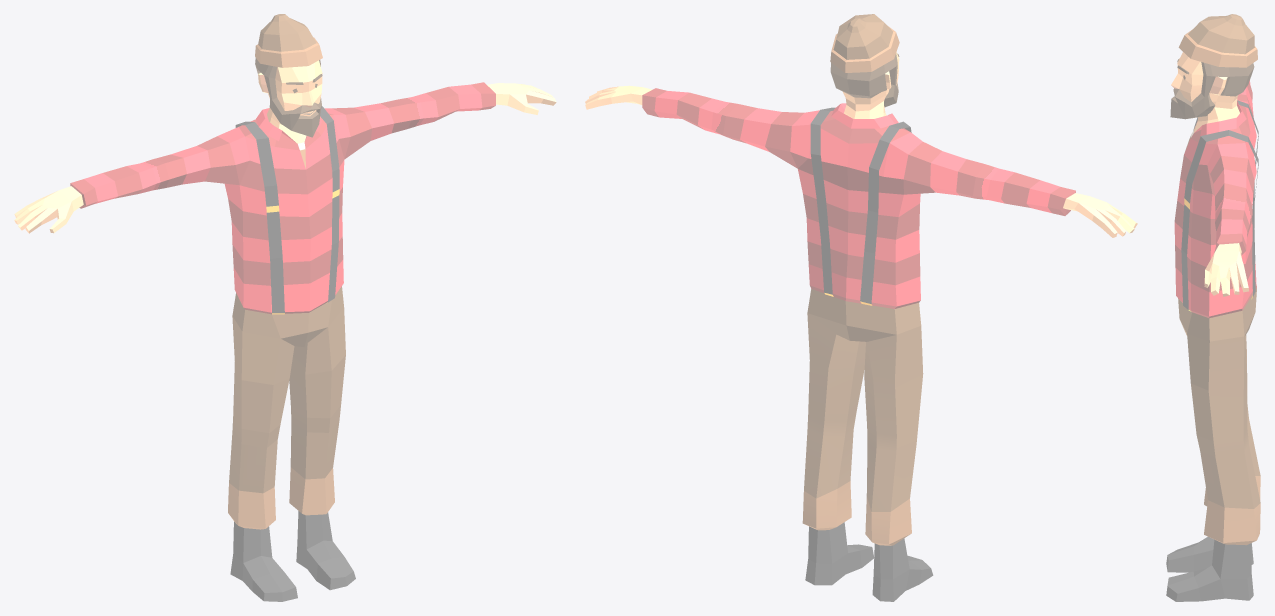
File: 214_man_lumberjack.gltf
3 renders of one model, left to right at view 1: azimuth 30°, elevation 25°; view 2: azimuth 150°, elevation 25°; view 3: azimuth 270°, elevation 25°, orthographic.
Visible parts, largest first — view 1: man_lumberjack; view 2: man_lumberjack; view 3: man_lumberjack.
Part boxes in pixels (x1,y1,x2,y2): man_lumberjack: (14, 14, 556, 601); man_lumberjack: (585, 14, 1137, 601); man_lumberjack: (1166, 14, 1260, 601).
Size of the model in its own units: 1.86 by 1.85 by 0.2806.
Materials: 1 (1 with a texture image).
